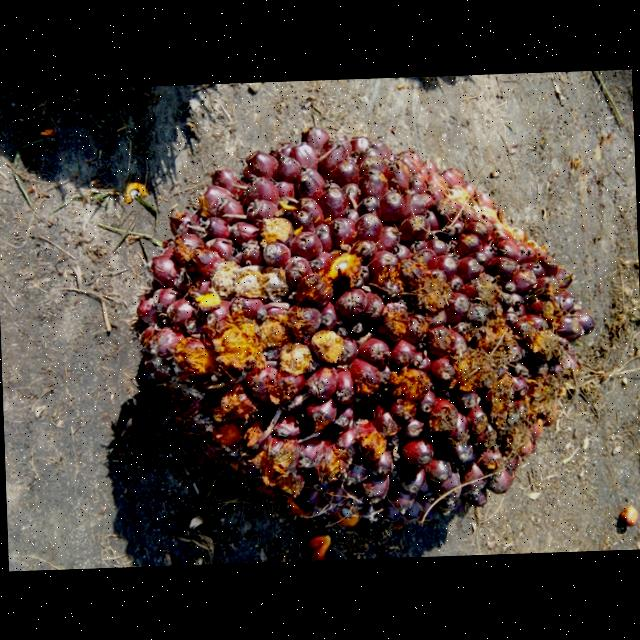Ripe: (132, 126, 596, 522)
